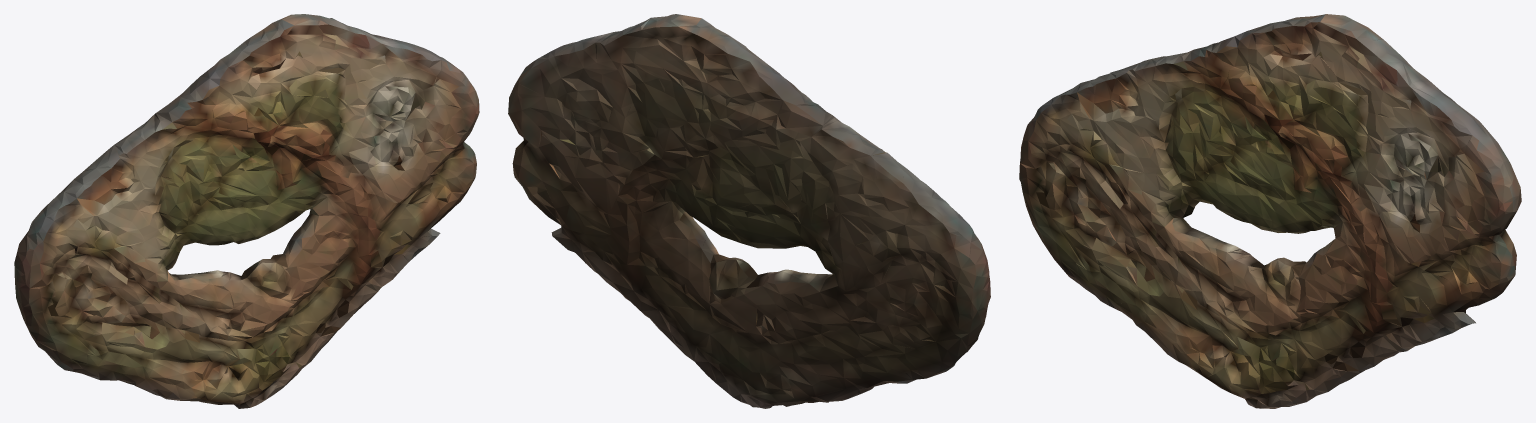
File: daycare_leafbedding.glb
3 renders of one model, left to right at view 1: azimuth 30°, elevation 25°; view 2: azimuth 150°, elevation 25°; view 3: azimuth 330°, elevation 25°, orthographic. The views are drawn at different scales.
Visible parts, largest first — view 1: geometry_0; view 2: geometry_0; view 3: geometry_0.
Part boxes in pixels (box(x1,y1,x2,y2)): geometry_0: box(14, 14, 479, 408); geometry_0: box(508, 14, 990, 408); geometry_0: box(1019, 14, 1521, 408).
Size of the model in its own units: 0.2614 by 0.2 by 0.0296.
1 material, 1 textured.
